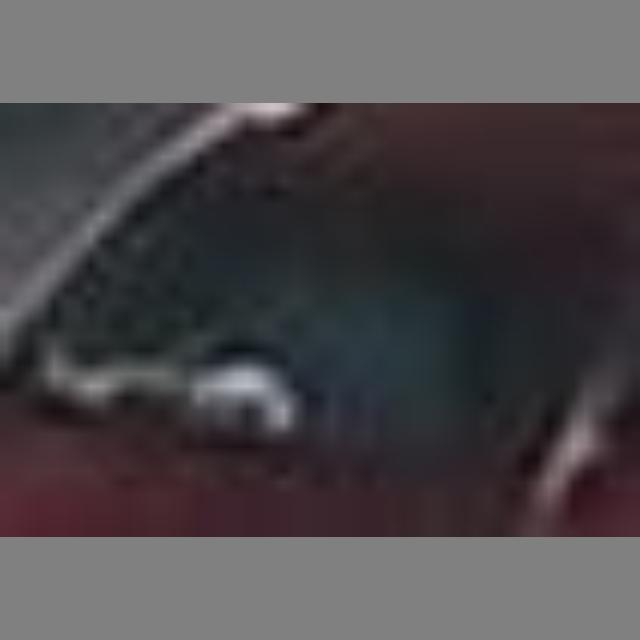tidak-pakai: (181, 236, 459, 429)
